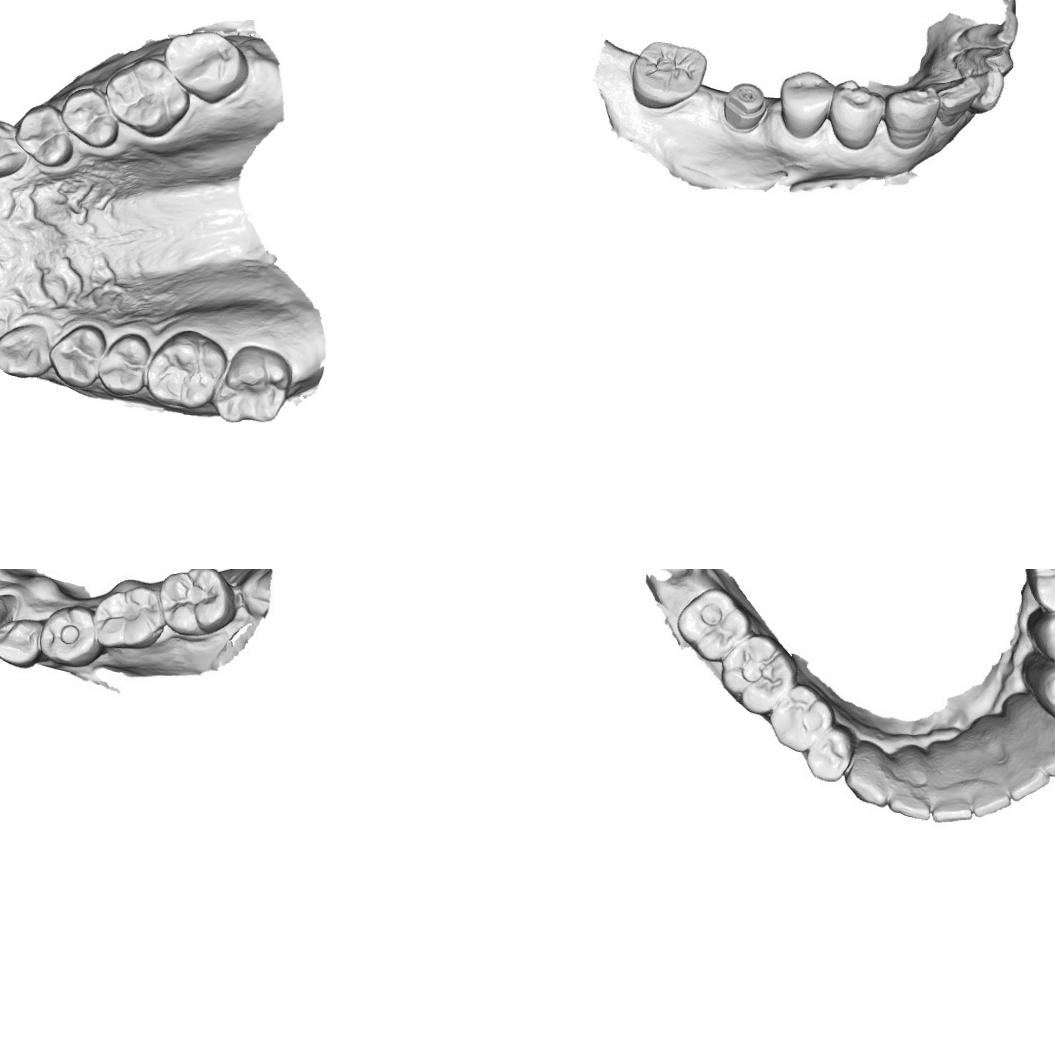canine: (883, 81, 940, 152), (842, 743, 892, 811), (0, 320, 51, 380), (0, 118, 29, 180), (1026, 715, 1055, 776), (0, 589, 20, 649)
implant_minus: (717, 81, 769, 130)
incisor: (965, 768, 1020, 819), (934, 67, 980, 125), (888, 768, 936, 823), (1005, 756, 1055, 802), (929, 773, 974, 824), (955, 43, 1013, 78), (960, 68, 1004, 110)
molar: (104, 55, 192, 140), (144, 327, 230, 410), (210, 342, 294, 426), (162, 29, 250, 106), (629, 35, 710, 112), (676, 589, 752, 664), (720, 637, 793, 710), (163, 569, 236, 635), (95, 583, 164, 647), (1023, 569, 1055, 616)
premolar: (828, 75, 883, 152), (47, 323, 107, 391), (778, 68, 834, 140), (59, 84, 120, 150), (14, 102, 75, 168), (96, 330, 152, 398), (772, 691, 832, 746), (46, 606, 99, 665), (804, 726, 854, 782), (0, 615, 49, 663), (1040, 613, 1055, 668), (1042, 664, 1055, 725)
